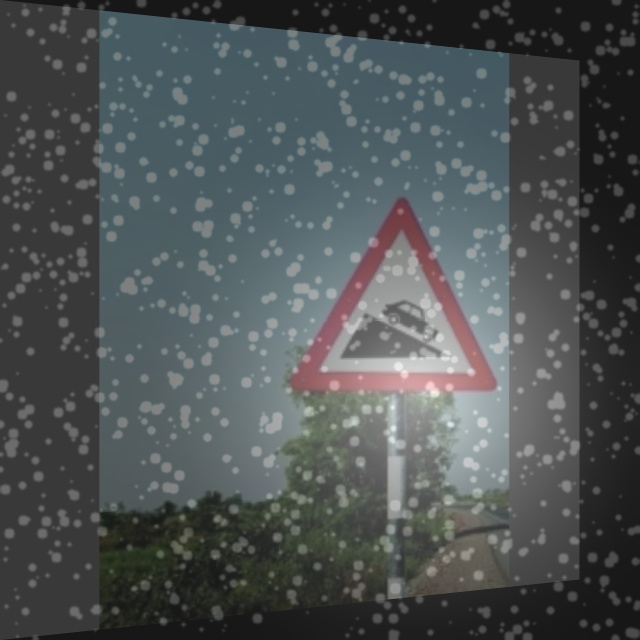Steep_Descent: (291, 194, 498, 396)
